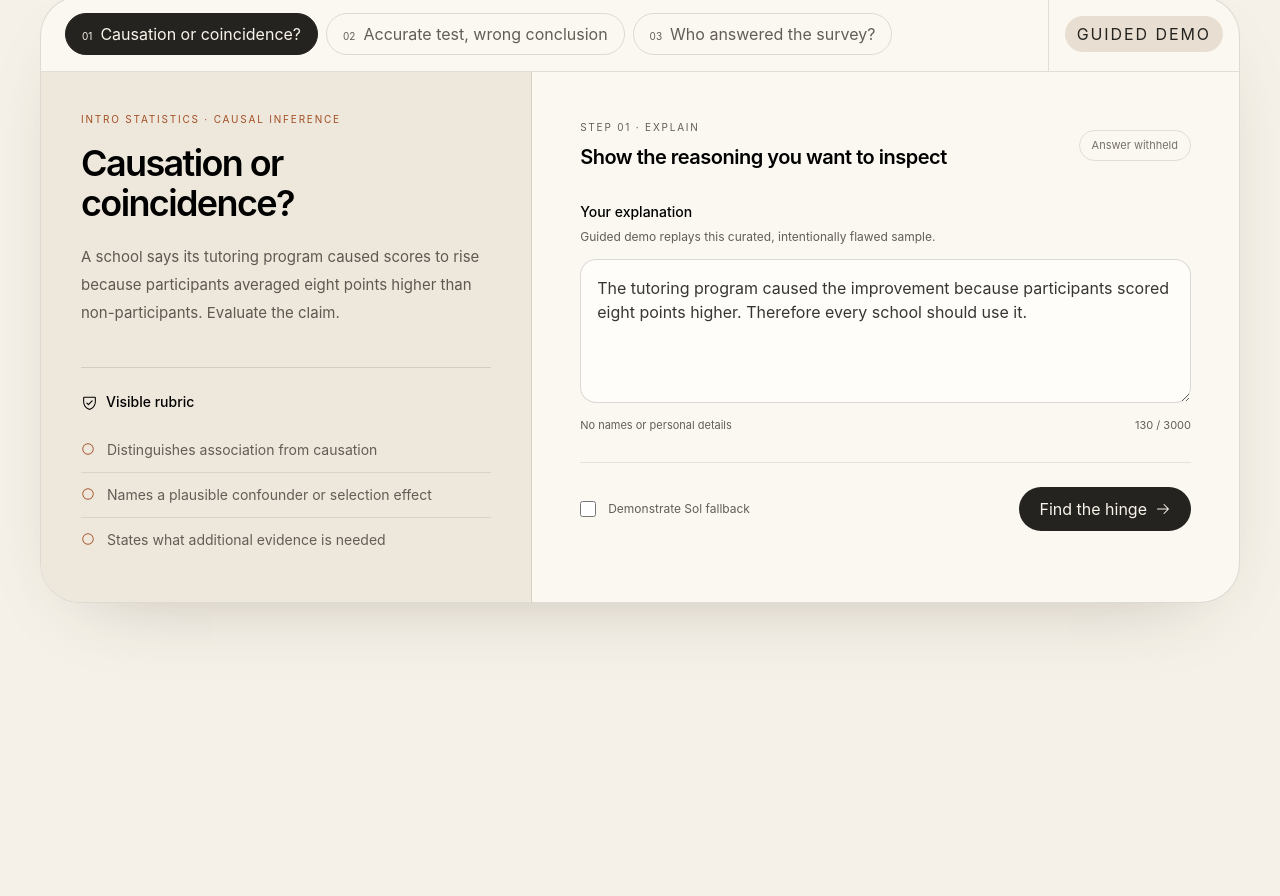
RepairStudio › announces progress and reveals the repair question
This screenshot has width=1280, height=896.
Click the button "Find the hinge": point(1105, 508) [1020, 486, 1191, 530]
(page scrolled)
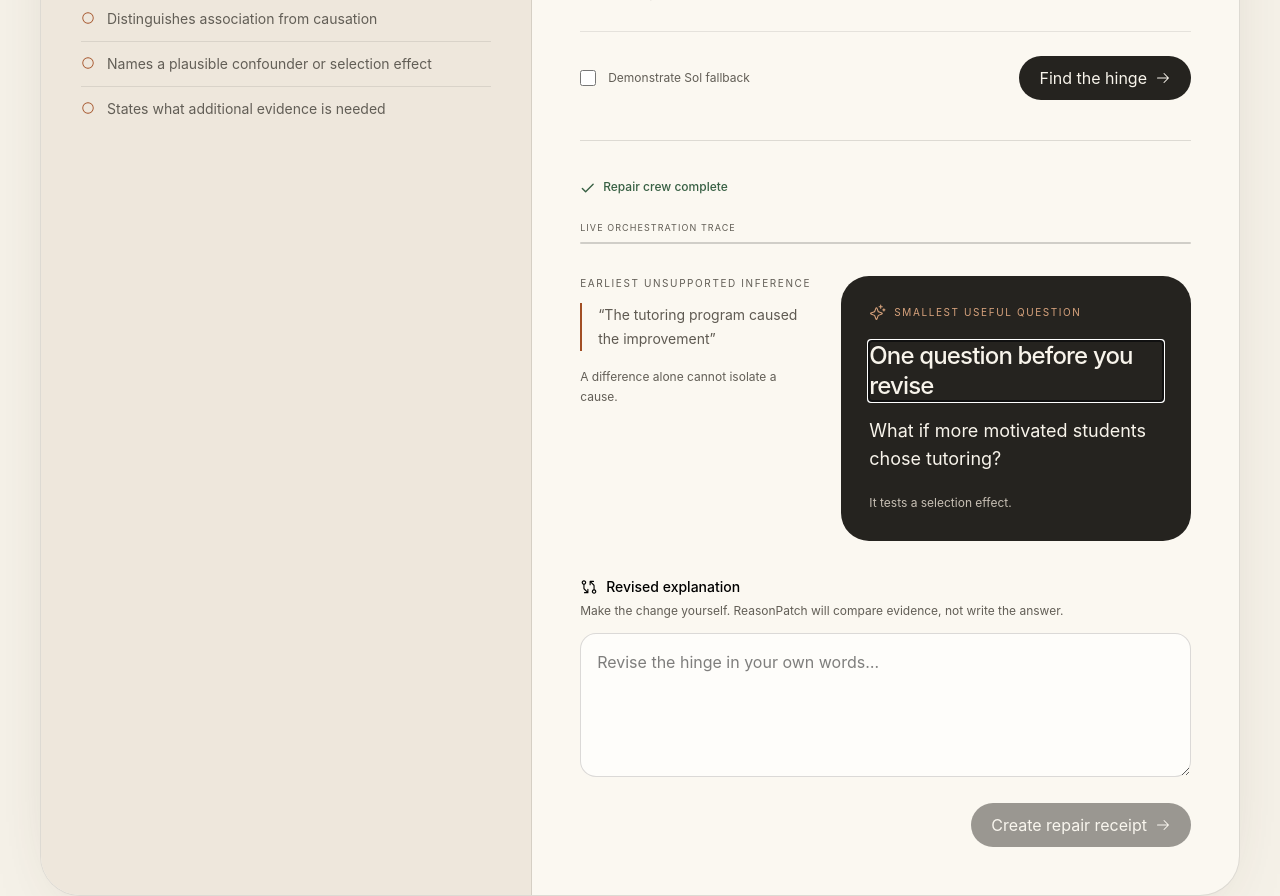
Expected: the message reads "Repair crew complete", [603, 179, 728, 194]
Expected: the heading "One question before you revise" is shown, [869, 341, 1163, 401]
Expected: the text "What if more motivated students chose tutoring?" is shown, [869, 417, 1163, 473]
